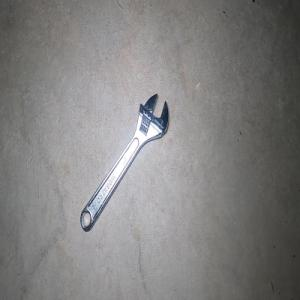Wrench: (80, 93, 168, 231)
